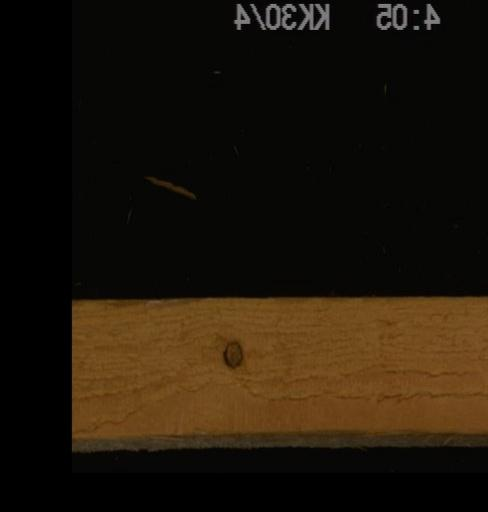dry_knot: (220, 335, 244, 370)
